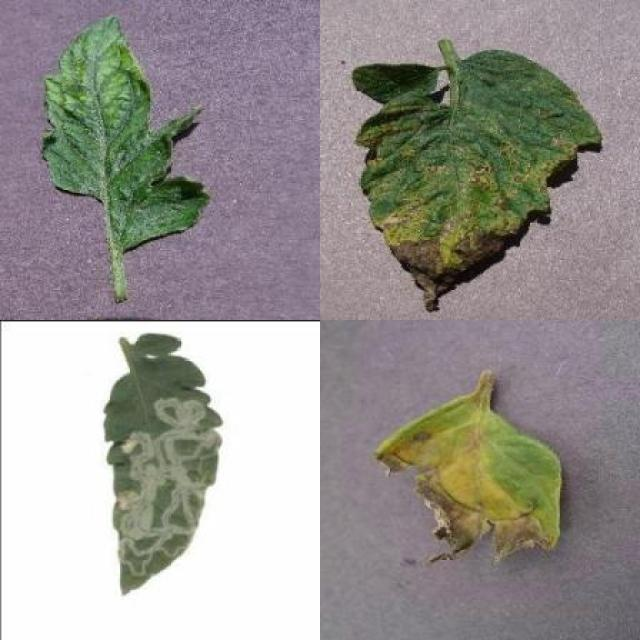Late Blight: (374, 388, 564, 568)
Leaf Miner: (102, 332, 225, 594)
Mosaic Virus: (42, 12, 212, 255)
Septoria: (353, 49, 600, 314)
